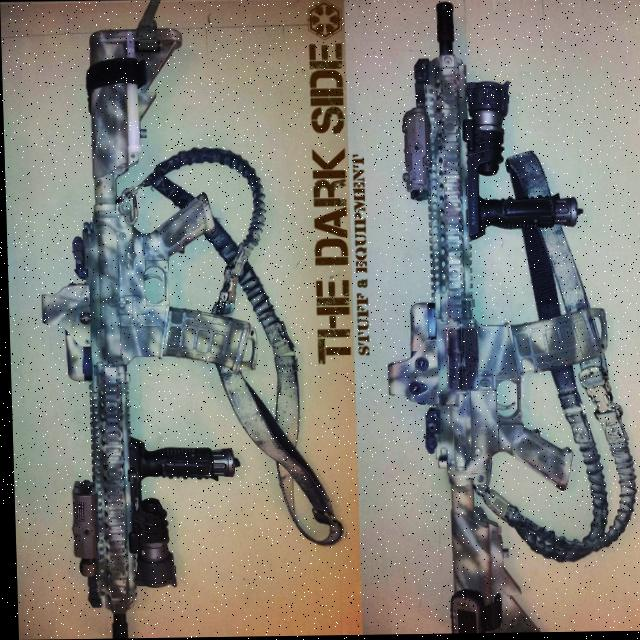firearm: (376, 1, 608, 636), (30, 27, 256, 640)
